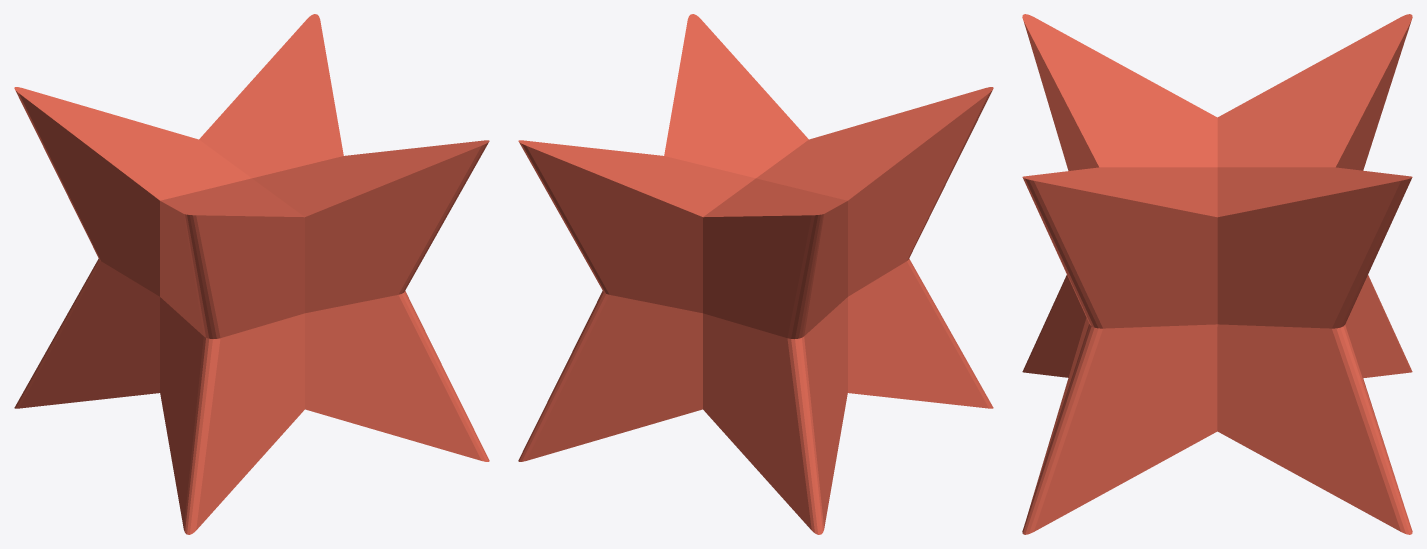
File: yıldız.fbx
The picture shows the model from 3 angles, left to right: view 1: azimuth 30°, elevation 25°; view 2: azimuth 150°, elevation 25°; view 3: azimuth 270°, elevation 25°; orthographic projection. The views are drawn at different scales.
Parts seen in each view (by area): view 1: Cube; view 2: Cube; view 3: Cube.
Boxes of the visible parts, x1,y1,x2,y2 form: Cube: [14, 14, 489, 534]; Cube: [518, 14, 993, 534]; Cube: [1022, 14, 1412, 534].
Size of the model in its own units: 194 by 196 by 194.
